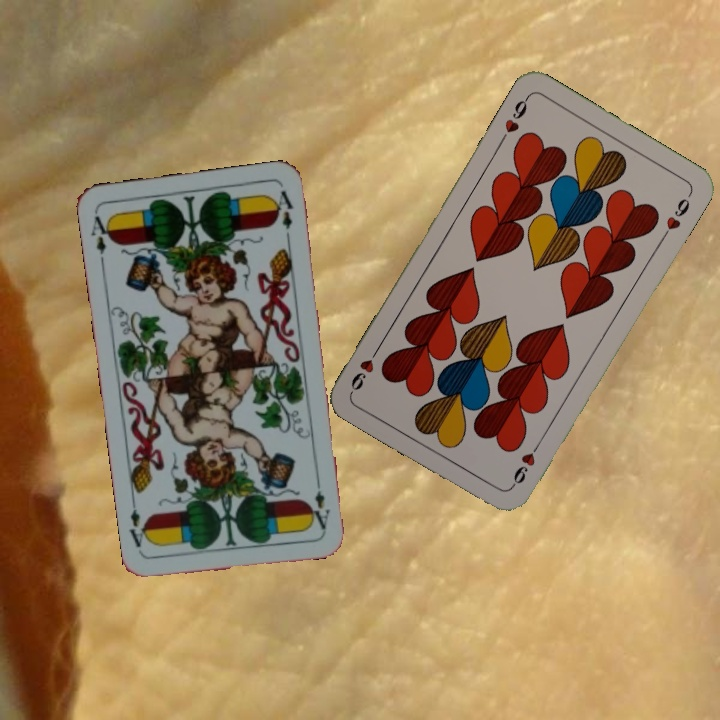EA: (87, 209, 115, 268), (310, 473, 333, 532)
H9: (506, 437, 544, 490), (496, 92, 532, 146)
